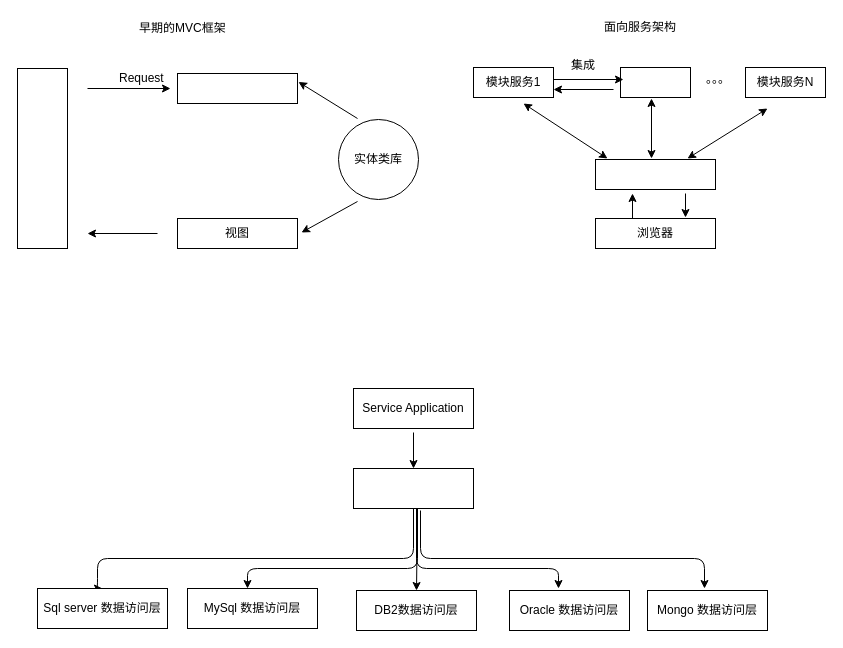
This 843x648 diagram has some shape labels left out. The centre of each missing label's shape, as x and y in pixels:
"HTML" goes at point (655, 174).
"控制器" goes at point (237, 88).
"数据库控制服务" goes at point (413, 488).
"模块服务2" goes at point (655, 82).
"浏 览 器" goes at point (42, 158).
